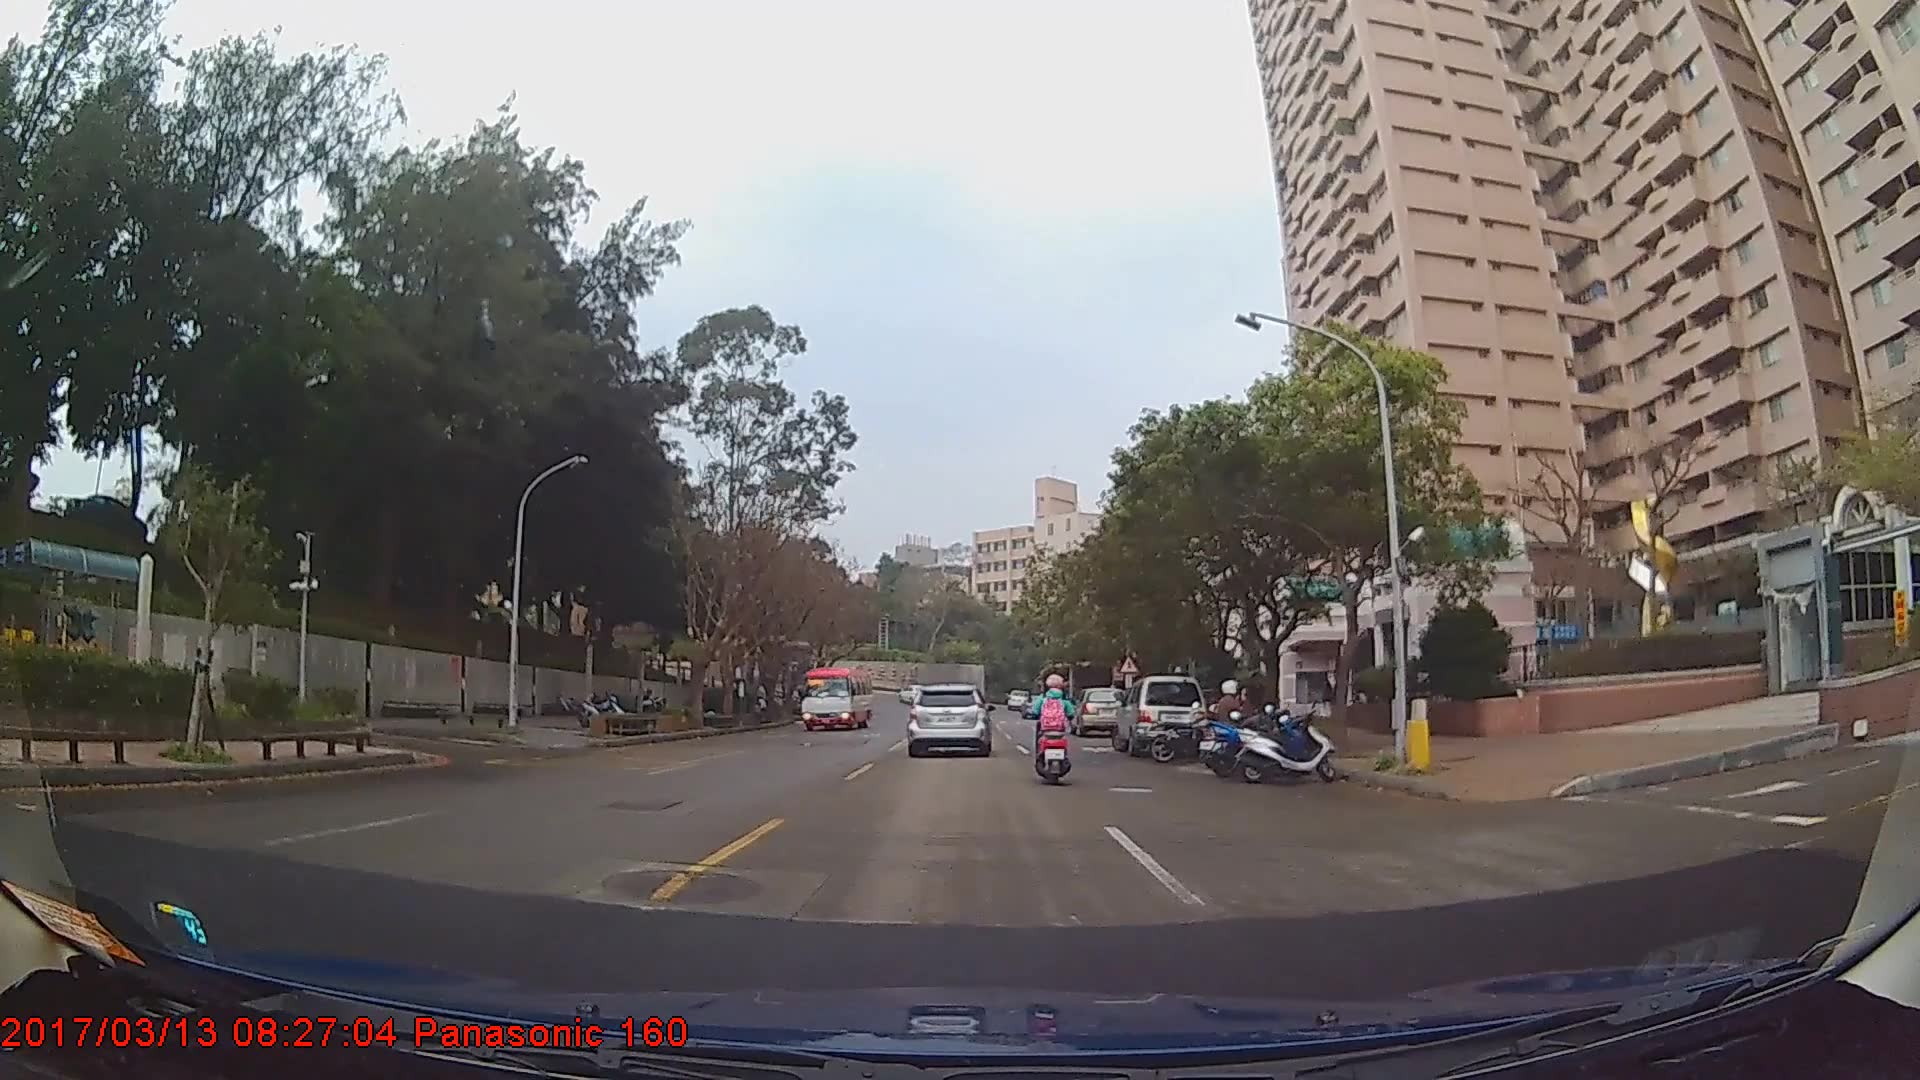rider: (1034, 672, 1083, 790), (1206, 678, 1257, 769)
vehicle: (1111, 674, 1205, 757), (906, 682, 991, 759), (799, 664, 873, 731), (1072, 686, 1127, 736)
